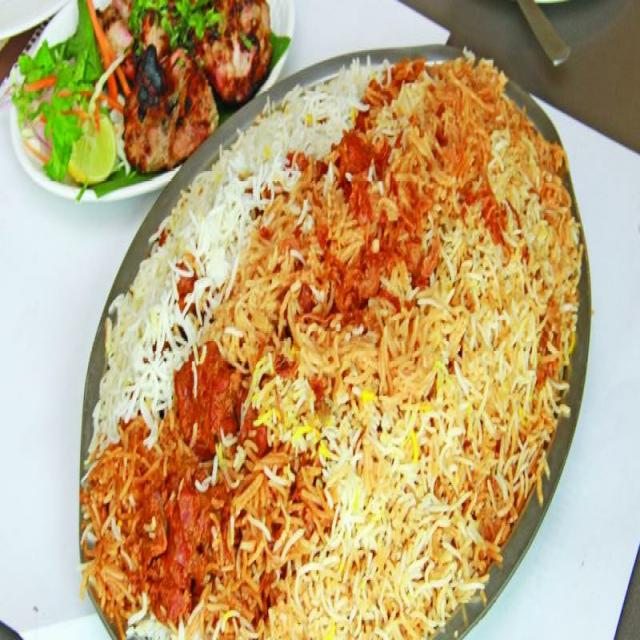Biryani: (80, 53, 583, 640)
